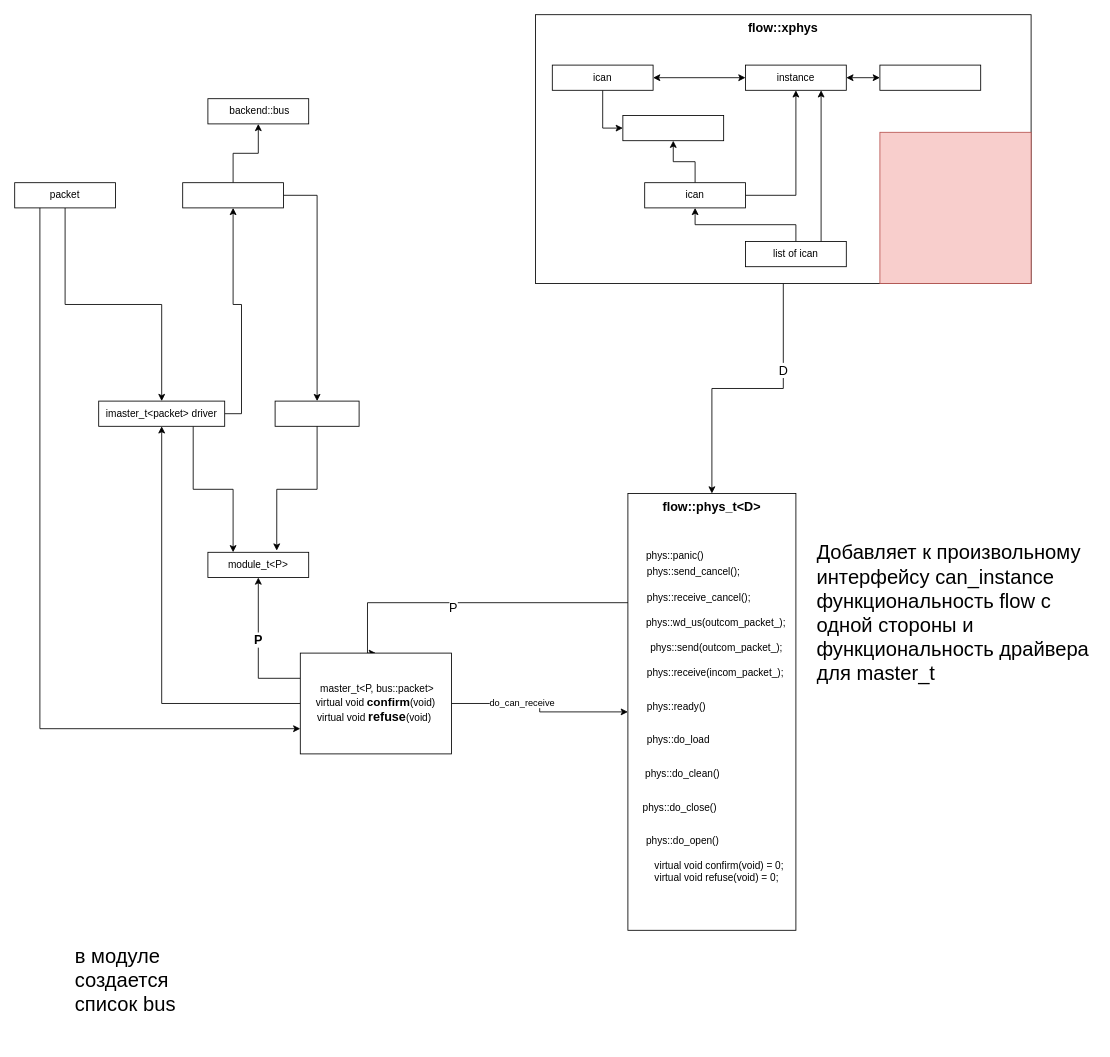
The diagram is 1110 pixels wide and 1057 high, and some of its shapes have lost their labels. The shapes that lost their labels are listed below. From the top down, each one's centre as x and y in pixels, then its label:
point (930, 77): физика или эмуляция
point (673, 128): can::flow::xphys
point (233, 195): can::flow::bus
point (955, 207): прокидывает данные между произвольной реализацией похоже, что это лишнее
point (316, 413): bus** buses_
